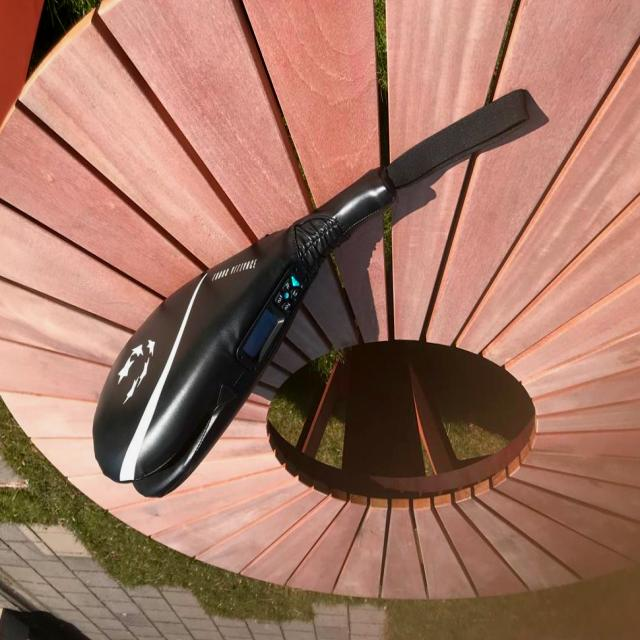paddle: (88, 165, 398, 504)
